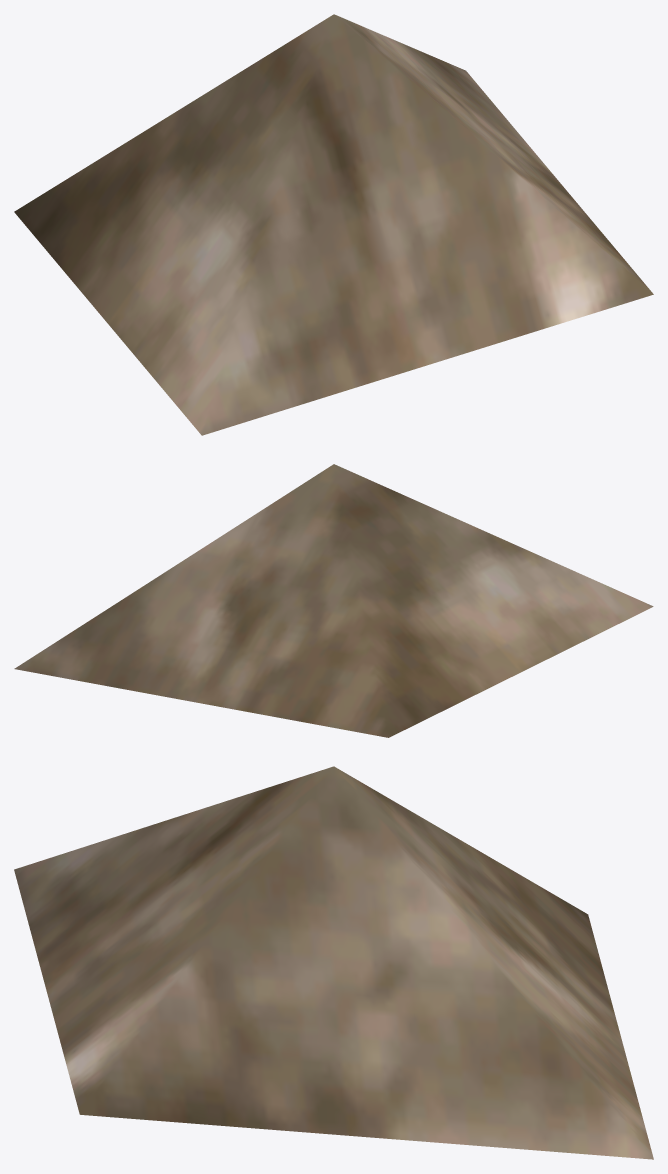
File: OVERHILL_A_01_PLANE12.fbx
The picture shows the model from 3 angles, top to bottom: view 1: azimuth 30°, elevation 25°; view 2: azimuth 150°, elevation 25°; view 3: azimuth 270°, elevation 25°; orthographic projection. The views are drawn at different scales.
Parts seen in each view (by area): view 1: OVERHILL_A_01_PLANE12; view 2: OVERHILL_A_01_PLANE12; view 3: OVERHILL_A_01_PLANE12.
Boxes of the visible parts, x1,y1,x2,y2 form: OVERHILL_A_01_PLANE12: (14,14,653,435); OVERHILL_A_01_PLANE12: (14,464,653,737); OVERHILL_A_01_PLANE12: (14,766,653,1159).
Bounding box in the file's own units: 1164 × 465 × 1086.
1 material, 1 textured.
